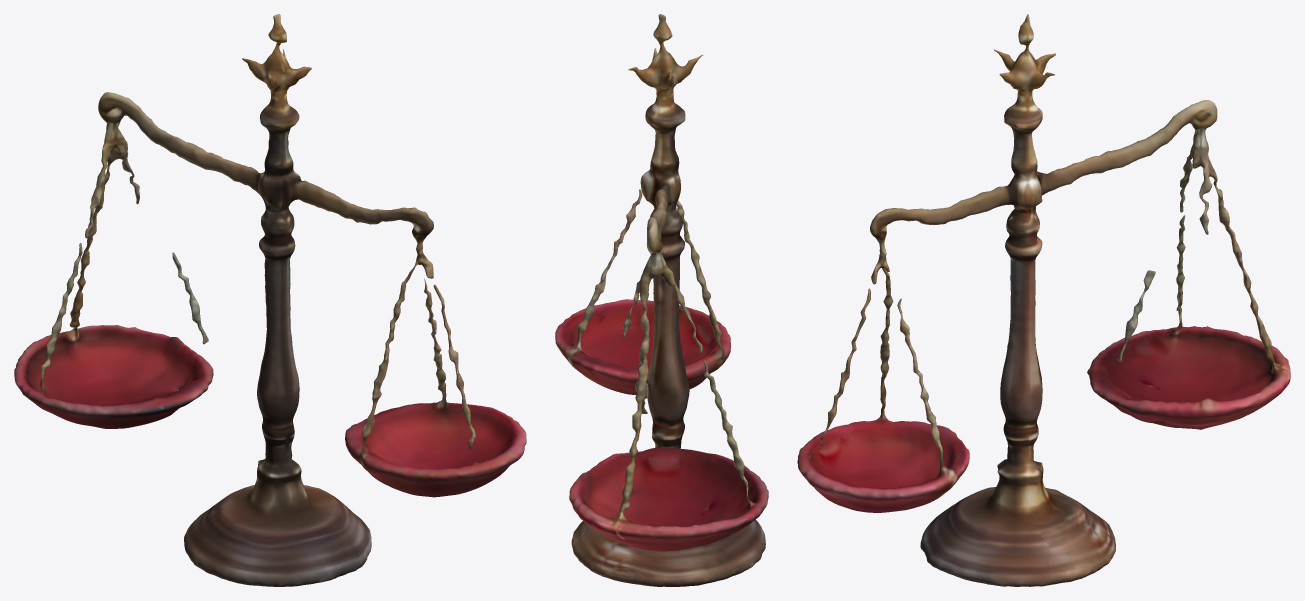
Rendered from trademark.glb.
3 views of the same model, side by side, from view 1: azimuth 30°, elevation 25°; view 2: azimuth 150°, elevation 25°; view 3: azimuth 270°, elevation 25° (orthographic).
Parts seen in each view (by area): view 1: Object_4; view 2: Object_4; view 3: Object_4.
Boxes of the visible parts, left/top/right/bottom form: Object_4: left=14, top=14, right=526, bottom=586; Object_4: left=555, top=14, right=768, bottom=586; Object_4: left=797, top=14, right=1290, bottom=586.
Size of the model in its own units: 0.5583 by 0.8523 by 0.6953.
1 material, 1 textured.
